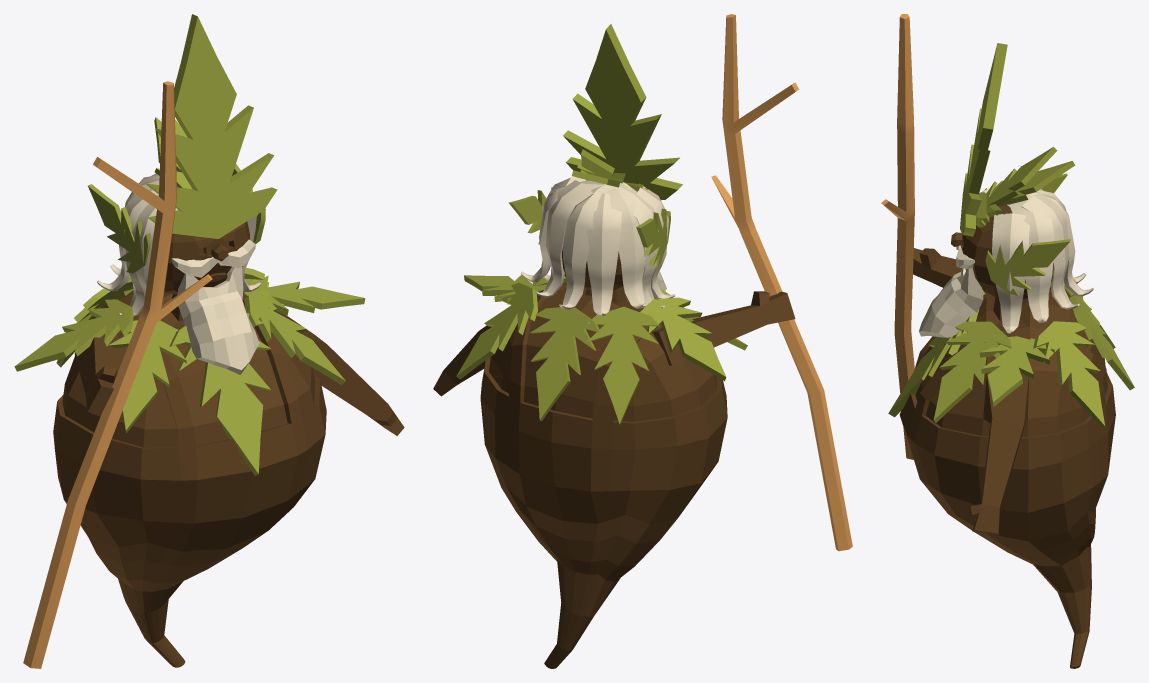
The model's file is elliot-3d.glb.
3 renders of one model, left to right at view 1: azimuth 30°, elevation 25°; view 2: azimuth 150°, elevation 25°; view 3: azimuth 270°, elevation 25°, orthographic. The views are drawn at different scales.
Visible parts, largest first — view 1: body, pPlane14, wand, beard, pPlane6, pPlane12, pPlane13, pPlane7, hand, pPlane8, pPlane4, mostache (+3 smaller); view 2: body, wand, pPlane14, pPlane11, pPlane10, hand, pPlane12, pCylinder4, pPlane9, pCylinder5, pCylinder3, pCylinder6 (+7 smaller); view 3: body, wand, pPlane9, pPlane7, pPlane14, beard, pPlane8, pCylinder8, pPlane5, pCylinder7, pCylinder6, pPlane6 (+5 smaller).
Boxes of the visible parts, x1,y1,x2,y2 form: body: [53, 221, 404, 667]; pPlane14: [145, 14, 277, 238]; wand: [23, 81, 212, 668]; beard: [177, 266, 259, 374]; pPlane6: [169, 313, 270, 475]; pPlane12: [14, 299, 133, 371]; pPlane13: [108, 320, 191, 433]; pPlane7: [244, 289, 345, 385]; hand: [74, 334, 127, 416]; pPlane8: [244, 275, 365, 315]; pPlane4: [88, 184, 150, 273]; mostache: [171, 239, 255, 277]; body: [433, 246, 727, 668]; wand: [711, 14, 852, 551]; pPlane14: [563, 24, 682, 200]; pPlane11: [587, 306, 659, 424]; pPlane10: [530, 307, 600, 421]; hand: [653, 291, 795, 365]; pPlane12: [640, 297, 726, 381]; pCylinder4: [586, 193, 621, 315]; pPlane9: [456, 282, 537, 379]; pCylinder5: [559, 182, 629, 309]; pCylinder3: [605, 187, 646, 308]; pCylinder6: [535, 180, 593, 297]; body: [899, 205, 1115, 668]; wand: [881, 14, 914, 459]; pPlane9: [1033, 321, 1104, 428]; pPlane7: [933, 321, 1011, 422]; pPlane14: [960, 43, 1007, 236]; beard: [919, 268, 983, 337]; pPlane8: [979, 336, 1054, 406]; pCylinder8: [992, 213, 1029, 333]; pPlane5: [985, 239, 1070, 295]; pCylinder7: [1007, 194, 1054, 322]; pCylinder6: [1021, 192, 1079, 309]; pPlane6: [888, 309, 979, 417].
Bounding box in the file's own units: 7.88 × 12.46 × 4.66.
